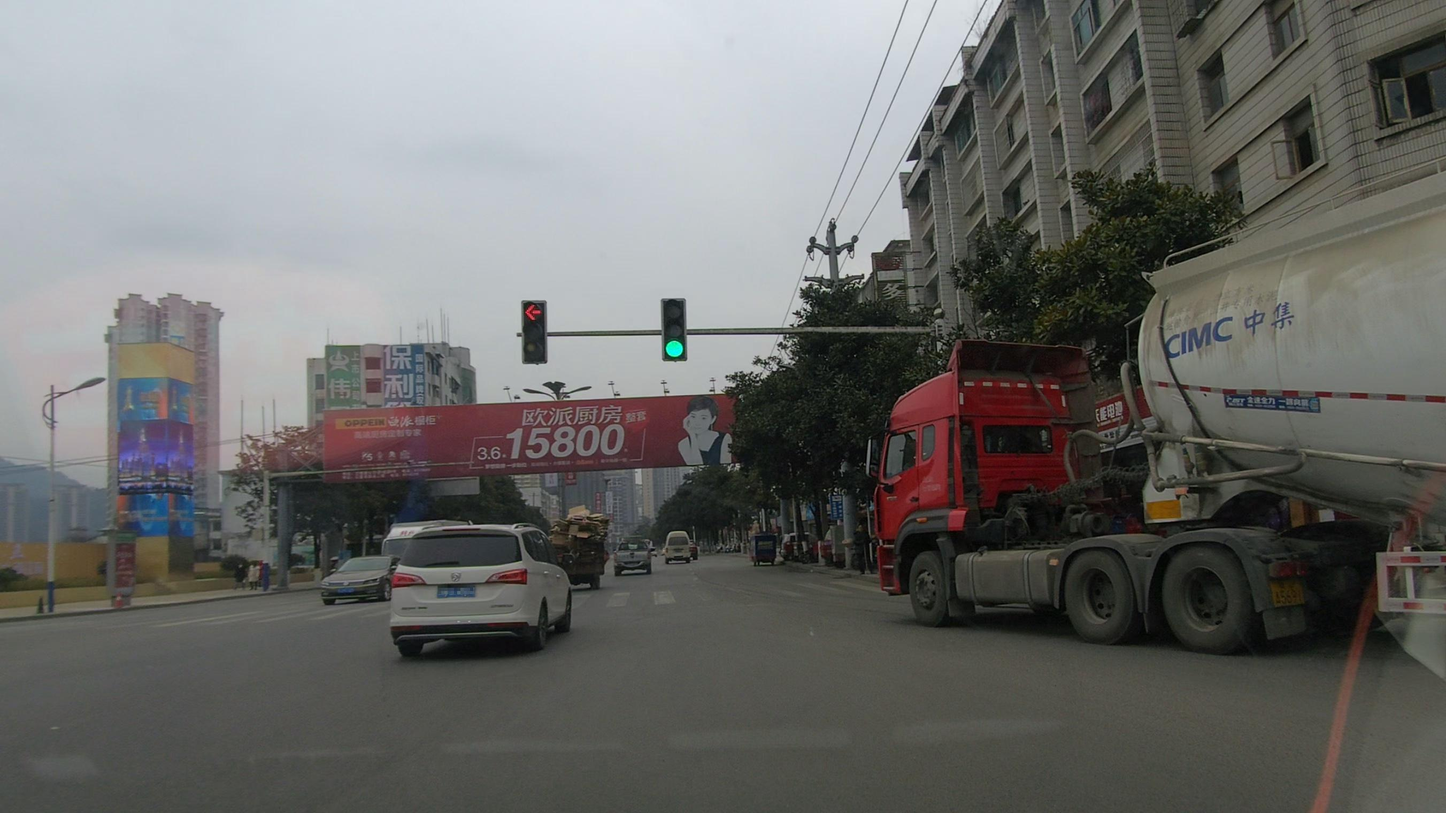red_light: (580, 229, 763, 458)
